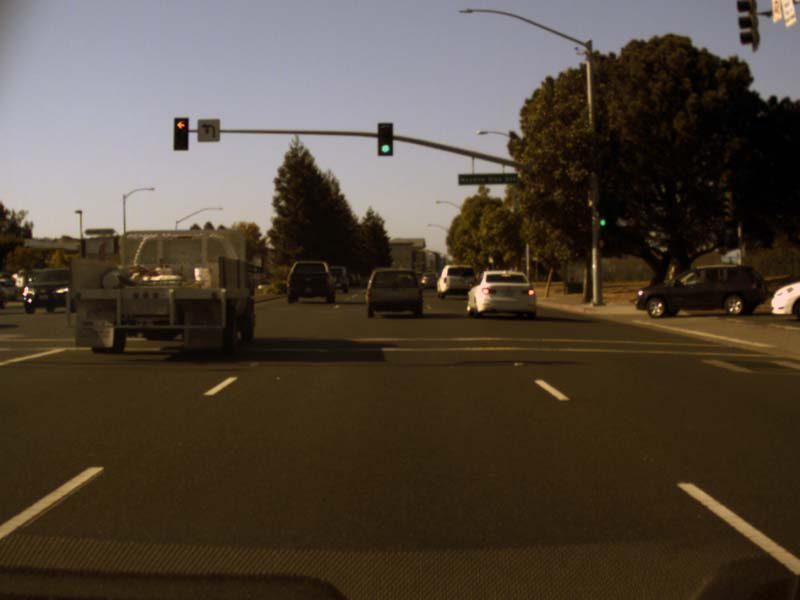Green: (377, 122, 392, 155), (598, 204, 606, 228)
Red: (173, 116, 188, 151)
